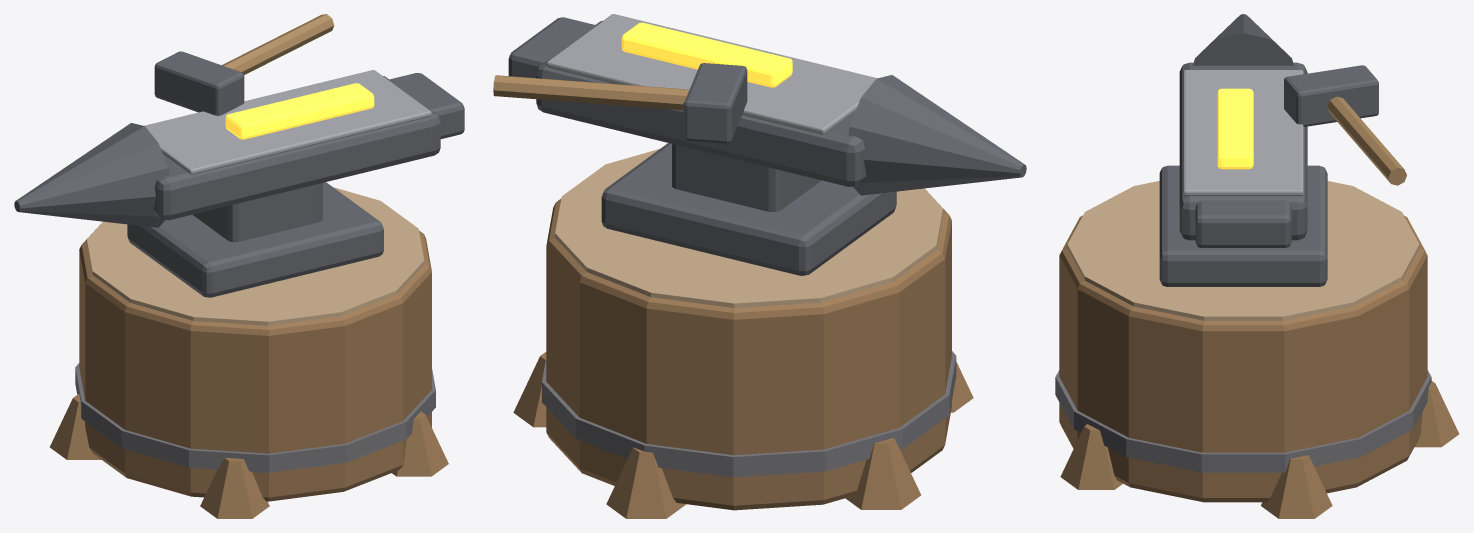
File: anvil.glb
3 renders of one model, left to right at view 1: azimuth 30°, elevation 25°; view 2: azimuth 150°, elevation 25°; view 3: azimuth 270°, elevation 25°, orthographic. The views are drawn at different scales.
Visible parts, largest first — view 1: Anvil; view 2: Anvil; view 3: Anvil.
Boxes of the visible parts, box(x1,y1,x2,y2) form: Anvil: box(14, 14, 464, 518); Anvil: box(493, 14, 1026, 518); Anvil: box(1055, 14, 1459, 518).
Bounding box in the file's own units: 1.27 × 0.96 × 1.01.
